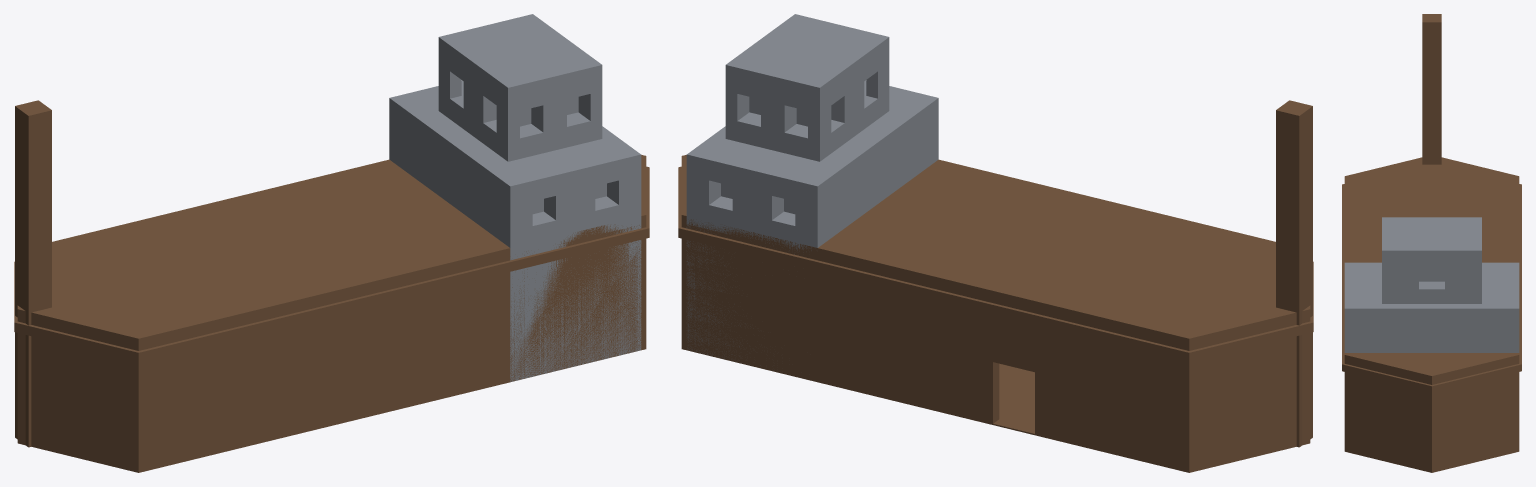
3 views of the same model, side by side, from view 1: azimuth 30°, elevation 25°; view 2: azimuth 150°, elevation 25°; view 3: azimuth 270°, elevation 25° (orthographic). The views are drawn at different scales.
Parts seen in each view (by area): view 1: body_timber, roof_timber, body_metal, roof_metal, trim_timber; view 2: body_timber, roof_timber, body_metal, roof_metal, trim_timber; view 3: body_timber, roof_timber, body_metal, roof_metal, trim_timber.
Part boxes in pixels (x1,y1,x2,y2): body_timber: [15, 109, 646, 472]; roof_timber: [15, 100, 646, 346]; body_metal: [389, 44, 641, 381]; roof_metal: [389, 14, 641, 193]; trim_timber: [14, 166, 649, 362]; body_timber: [681, 109, 1312, 472]; roof_timber: [681, 100, 1312, 346]; body_metal: [686, 44, 938, 365]; roof_metal: [686, 14, 938, 193]; trim_timber: [678, 166, 1313, 362]; body_timber: [1344, 24, 1519, 472]; roof_timber: [1344, 14, 1519, 381]; body_metal: [1344, 255, 1519, 352]; roof_metal: [1344, 217, 1519, 313]; trim_timber: [1342, 184, 1521, 392].
Size of what is drawn, in the model's own units: 24.28 by 12.1 by 8.24.
